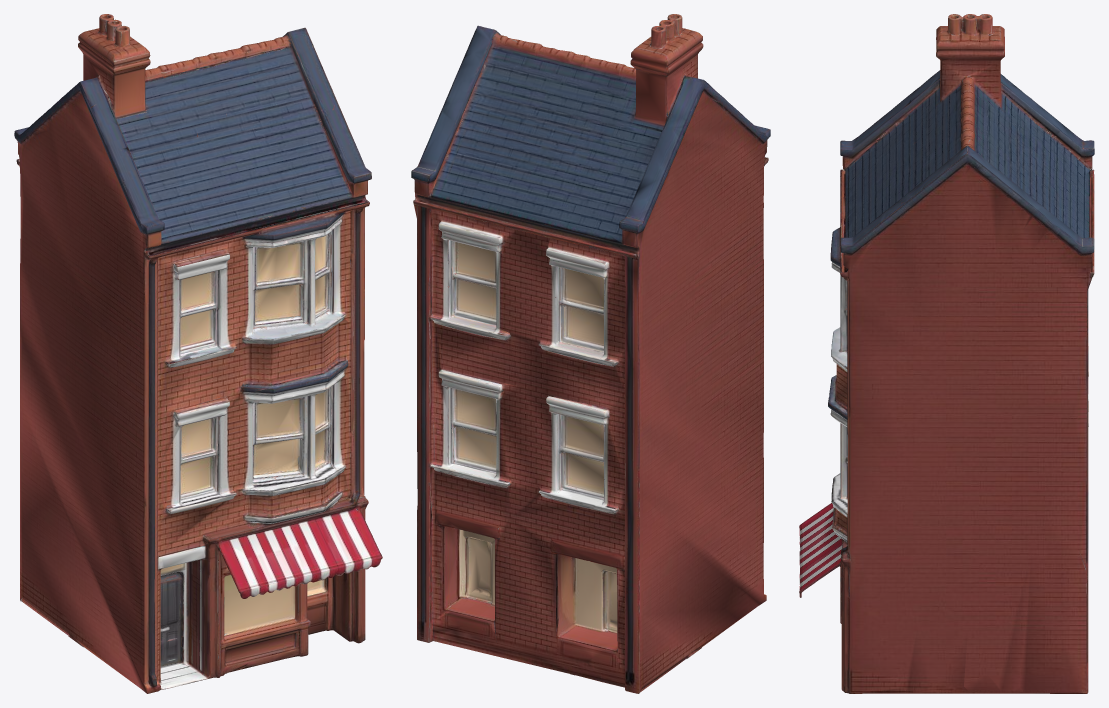
The model's file is townhouse.glb.
3 renders of one model, left to right at view 1: azimuth 30°, elevation 25°; view 2: azimuth 150°, elevation 25°; view 3: azimuth 270°, elevation 25°, orthographic. The views are drawn at different scales.
Visible parts, largest first — view 1: Mesh_0; view 2: Mesh_0; view 3: Mesh_0.
Part boxes in pixels (x1,y1,x2,y2): Mesh_0: (14, 14, 382, 693); Mesh_0: (411, 14, 770, 693); Mesh_0: (799, 14, 1094, 693).
Size of the model in its own units: 0.735 by 1.91 by 0.867.
1 material, 1 textured.
